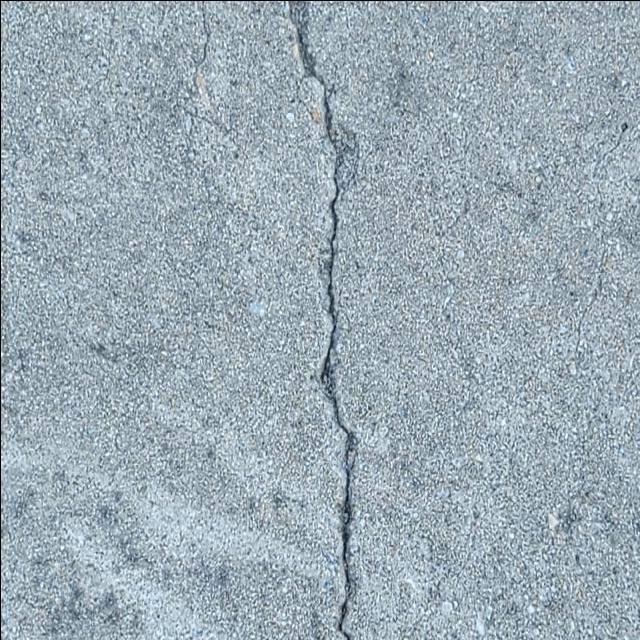SurfaceCrack: (249, 0, 412, 639)
